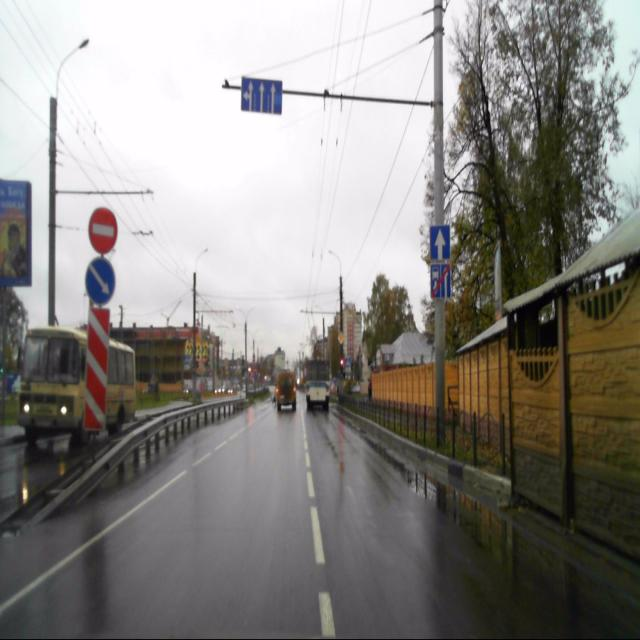road sign: (240, 74, 284, 116), (429, 224, 450, 261), (430, 262, 450, 299)
